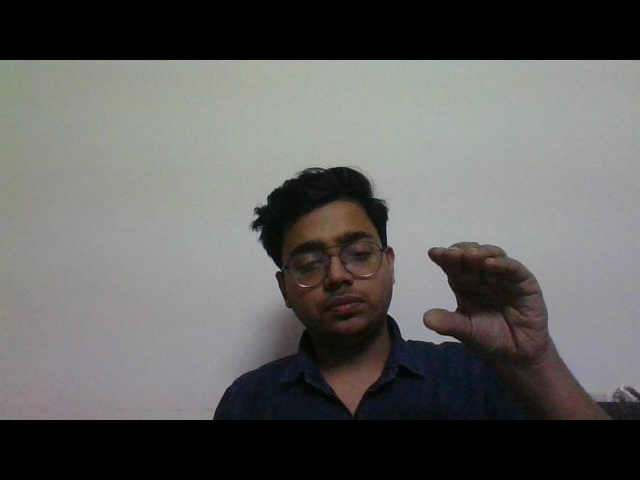no: (402, 224, 562, 398)
